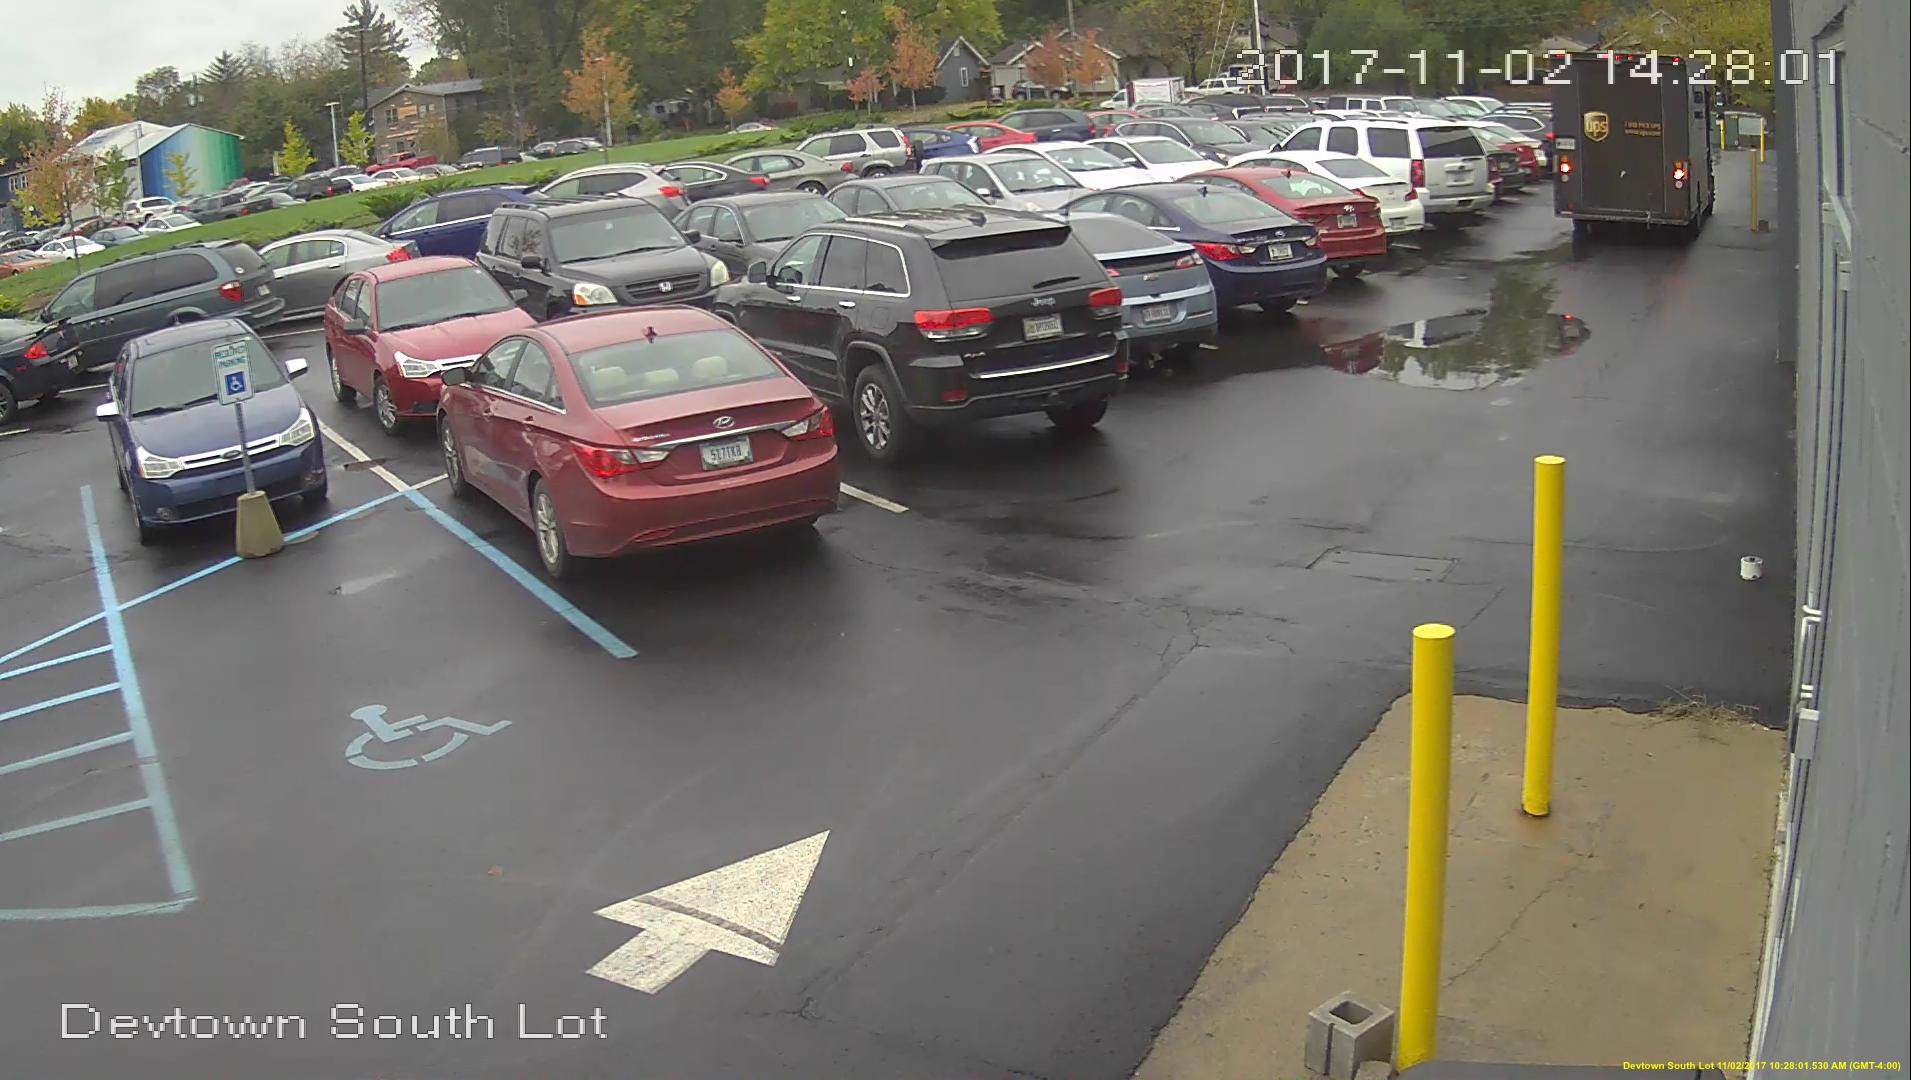ups_truck: (1547, 47, 1717, 245)
